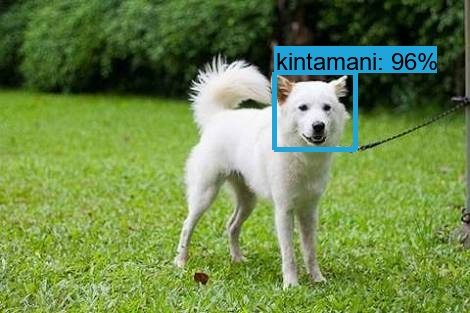kintamani: (266, 69, 358, 160)
